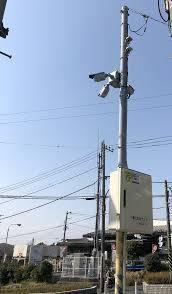tutu: (97, 79, 113, 104), (86, 69, 107, 85)
